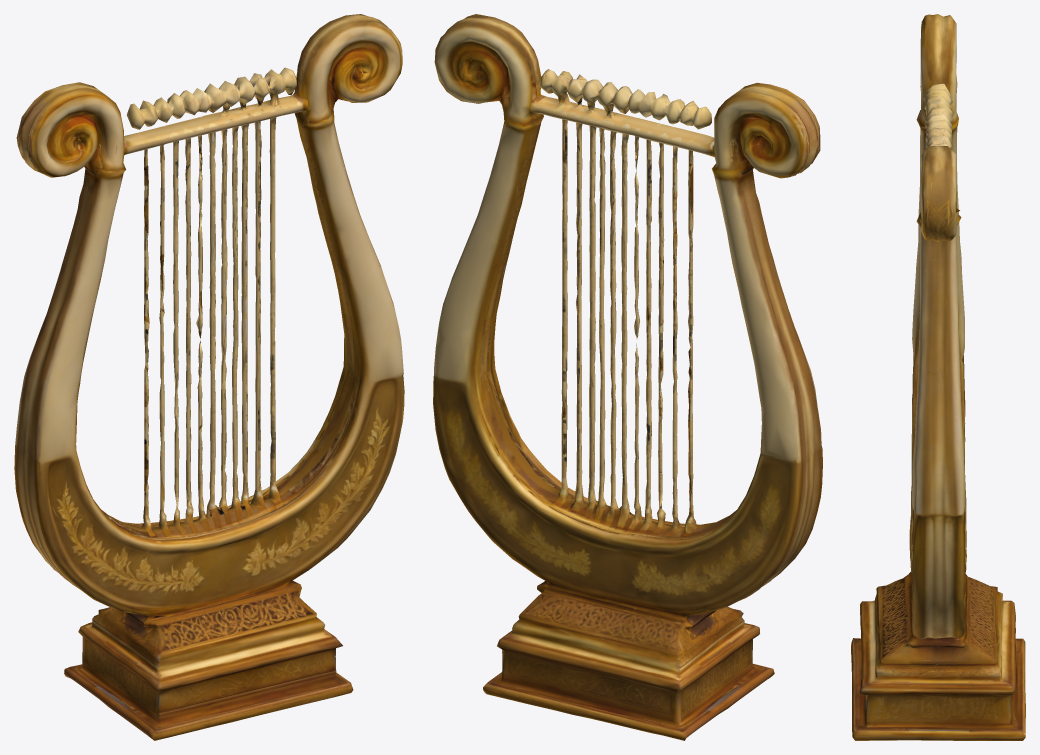
3 views of the same model, side by side, from view 1: azimuth 30°, elevation 25°; view 2: azimuth 150°, elevation 25°; view 3: azimuth 270°, elevation 25° (orthographic). The views are drawn at different scales.
Size of the model in its own units: 1.26 by 2.01 by 0.523.
Materials: 1 (1 with a texture image).
